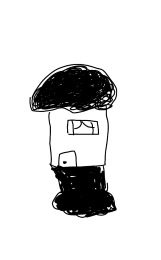door: (55, 149, 81, 170)
open_window: (62, 119, 101, 138)
shaded_roof: (20, 55, 120, 114)
shadow: (47, 160, 120, 218)
small_house: (1, 1, 161, 260)
wall: (46, 107, 112, 169)
